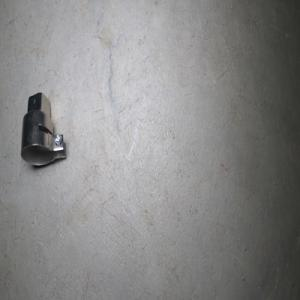MetalPart: (20, 91, 66, 166)
